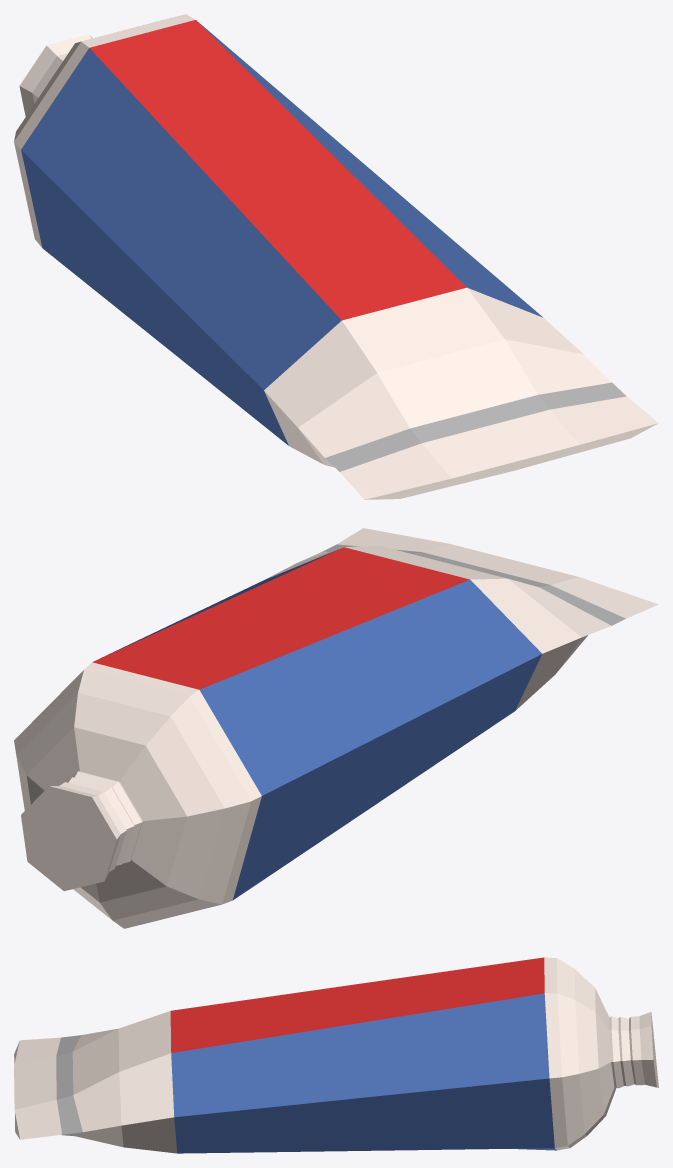
The model's file is Tooth paste.fbx.
3 renders of one model, top to bottom at view 1: azimuth 30°, elevation 25°; view 2: azimuth 150°, elevation 25°; view 3: azimuth 270°, elevation 25°, orthographic. The views are drawn at different scales.
Parts seen in each view (by area): view 1: toothpaste; view 2: toothpaste; view 3: toothpaste.
Part boxes in pixels (x1=…): toothpaste: x1=14, y1=14, x2=658, y2=499; toothpaste: x1=14, y1=528, x2=658, y2=928; toothpaste: x1=14, y1=957, x2=658, y2=1153.
Size of the model in its own units: 5.85 by 4.63 by 15.52.
